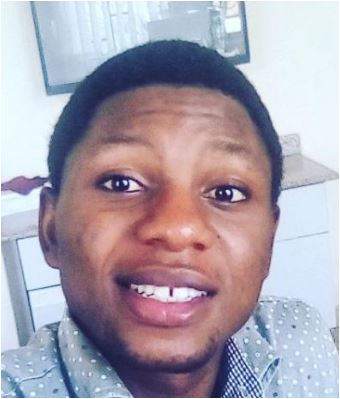without_facemask: (72, 220, 273, 385)
